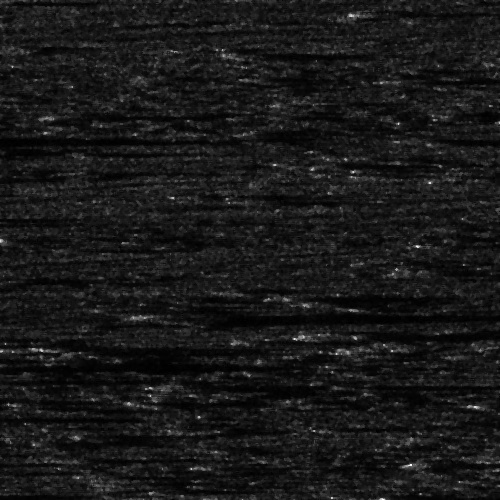object: (240, 328, 427, 341), (77, 378, 244, 391), (86, 397, 191, 406), (188, 47, 251, 58), (259, 292, 332, 301), (394, 134, 447, 143), (345, 6, 408, 13), (42, 456, 115, 461), (329, 383, 382, 388), (389, 459, 430, 464), (0, 359, 17, 370), (145, 313, 176, 318), (0, 374, 13, 383)
shadow: (0, 359, 243, 370), (333, 328, 500, 341), (161, 378, 308, 391), (219, 47, 376, 58), (0, 135, 237, 142), (296, 292, 450, 301), (0, 374, 119, 383), (139, 397, 236, 406), (377, 6, 484, 13), (79, 456, 224, 461), (421, 134, 500, 143), (356, 383, 461, 388), (0, 413, 98, 418), (0, 497, 155, 500), (410, 459, 500, 464), (0, 214, 79, 219), (0, 492, 86, 495), (161, 313, 209, 318)
